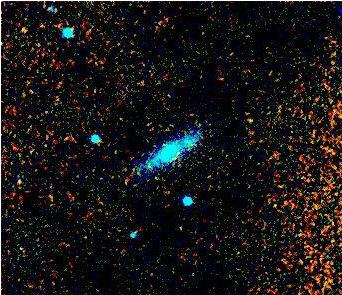star: (8, 16, 38, 46)
